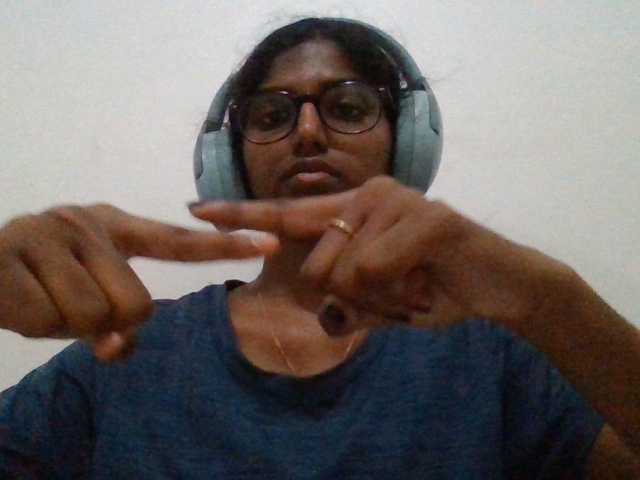Sign: (3, 164, 582, 391)
